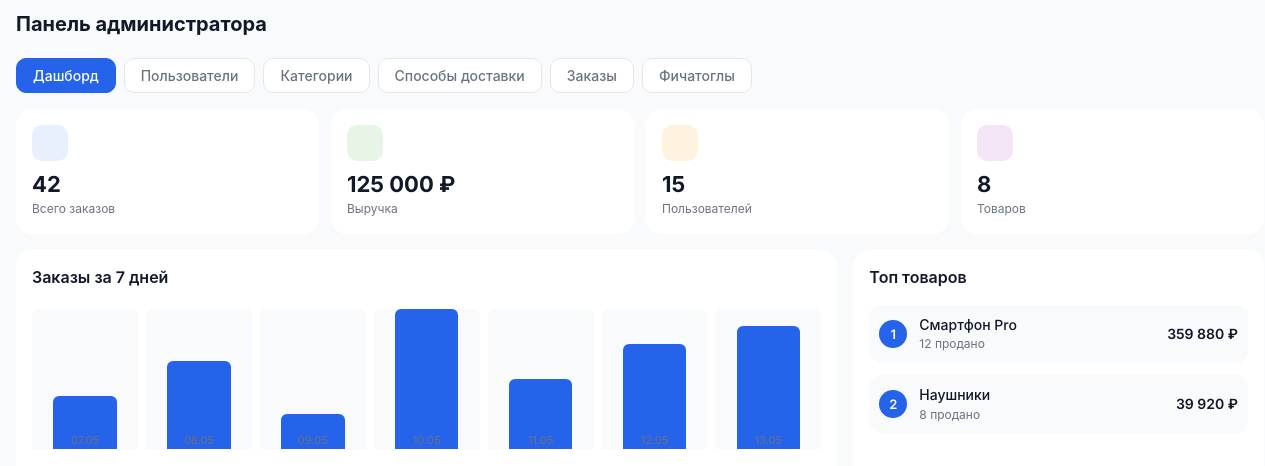
Scenario: Admin.vue › в строке таблицы заказа только иконка открытия модалки
Click the button with test id "admin-section-tab-orders" at (592, 76), box [550,58,634,93]
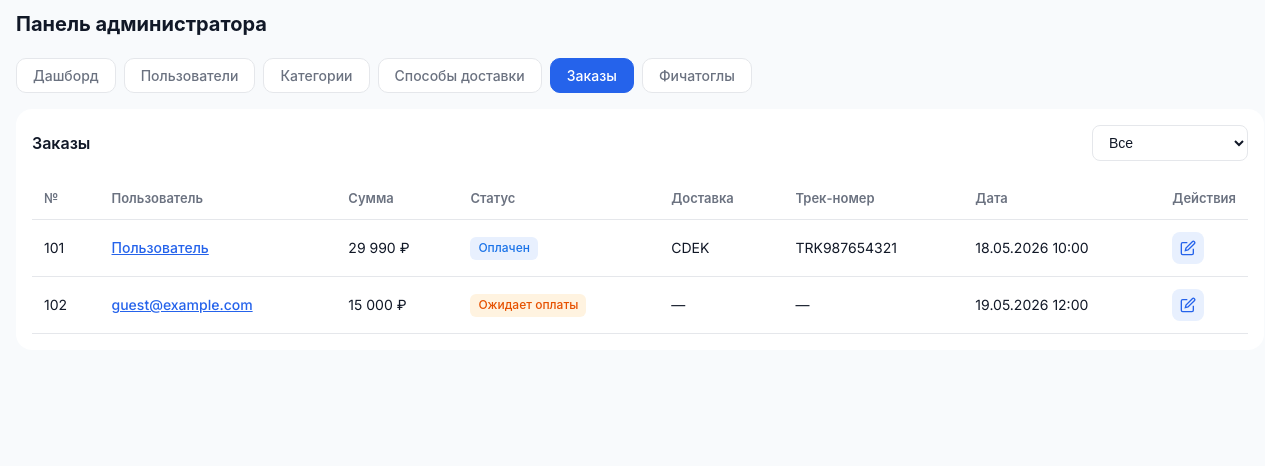
Expected: the button with test id "admin-order-open-btn-101" is shown, [1172,232,1204,264]
Expected: the button with test id "admin-order-open-btn-102" is shown, [1172,289,1204,321]
